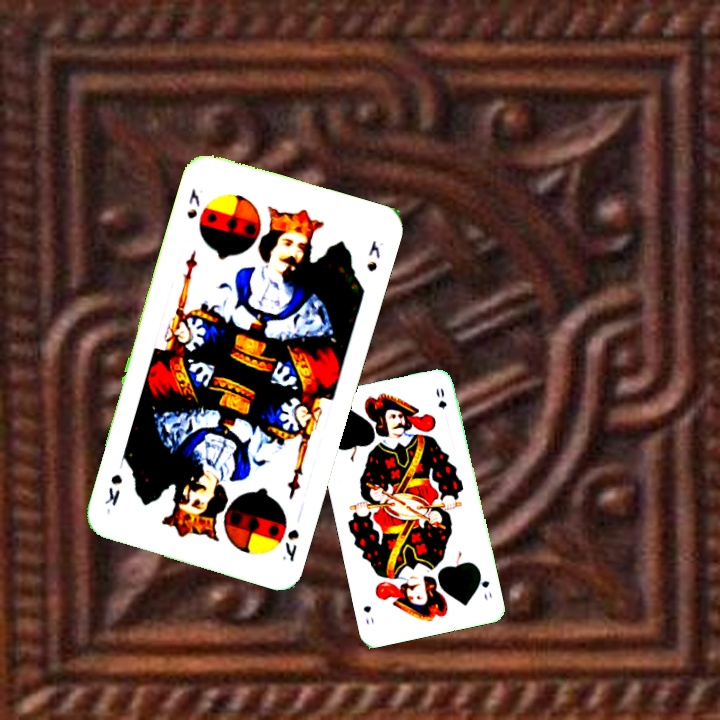GO: (475, 567, 495, 603)
SK: (278, 525, 302, 565), (182, 185, 203, 222)
